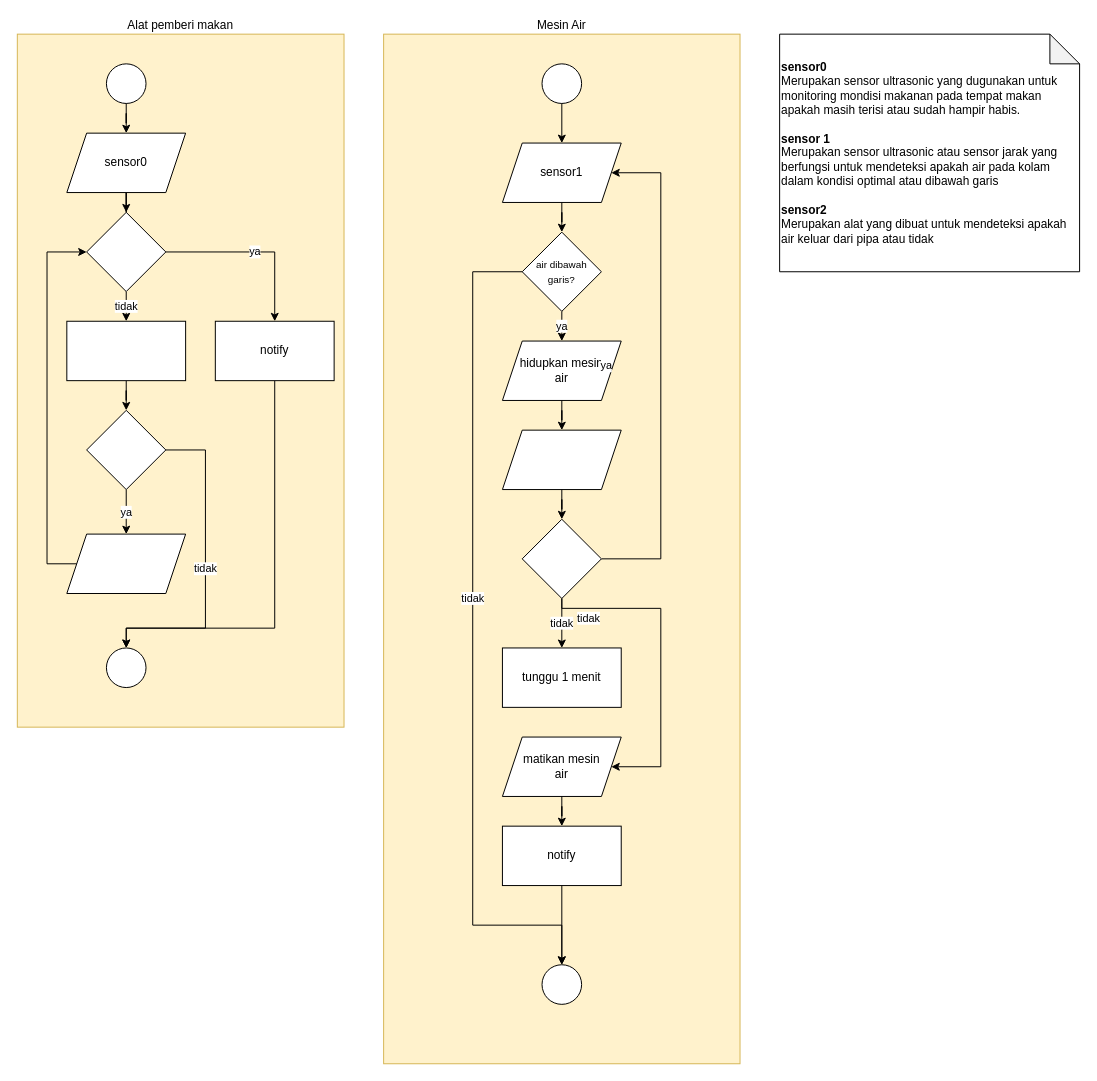
The diagram is 1097 pixels wide and 1081 high, and some of its shapes have lost their labels. The shapes that lost their labels are listed below. From the top down, each one's centre as x and y in pixels, then its label:
[126,251]: tempat makan kosong?
[126,350]: setting waktu
[126,449]: waktu makan?
[561,459]: sensor2
[126,563]: keluarkan makan
[561,558]: air keluar? ulangi 1x
